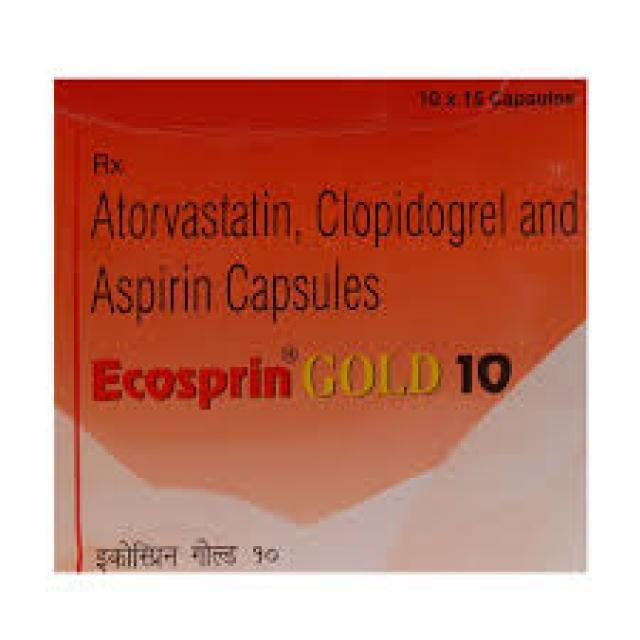authentic: (44, 68, 599, 586)
